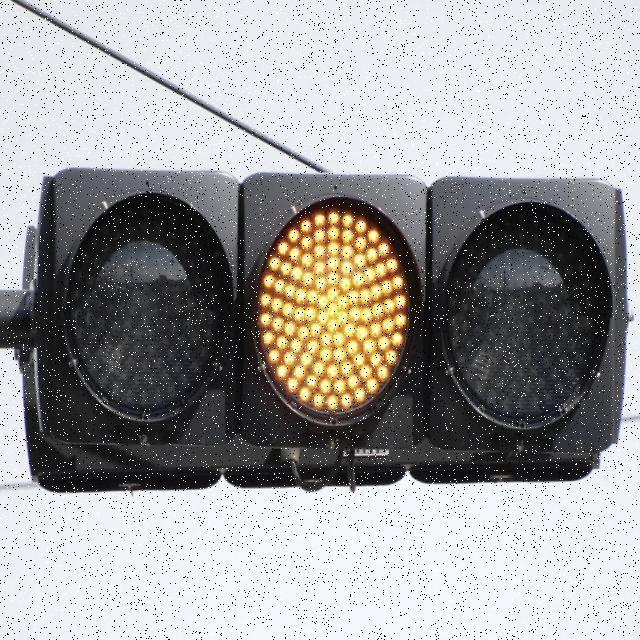yellow_light: (260, 193, 415, 434)
